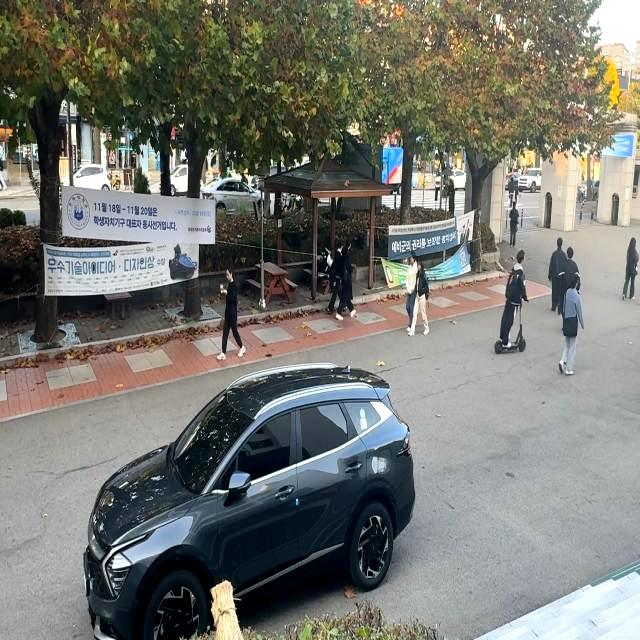bare_head: (511, 246, 531, 267)
human: (499, 246, 528, 339)
kickboard: (491, 327, 540, 360)
